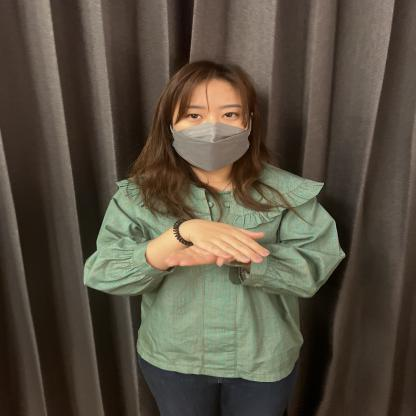Love: (92, 165, 346, 326)
